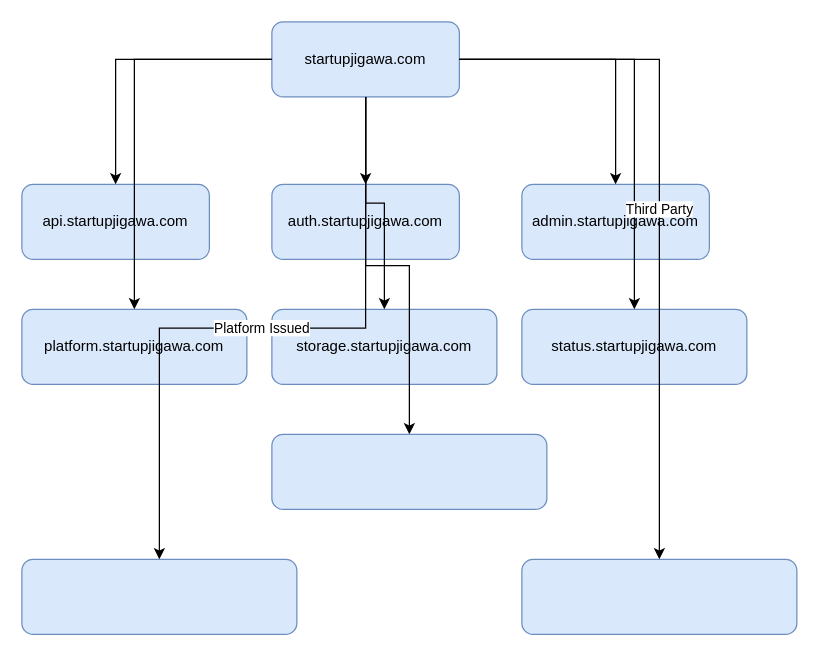
This 819x656 diagram has some shape labels left out. The shapes that lost their labels are listed below. From the top down, each one's centre as x and y in pixels, then its label:
At point (409, 471): "labs.startupjigawa.com (Experimental)".
At point (159, 596): "*.startupjigawa.com (Wildcard)".
At point (659, 596): "customdomain.org (CNAME)".
